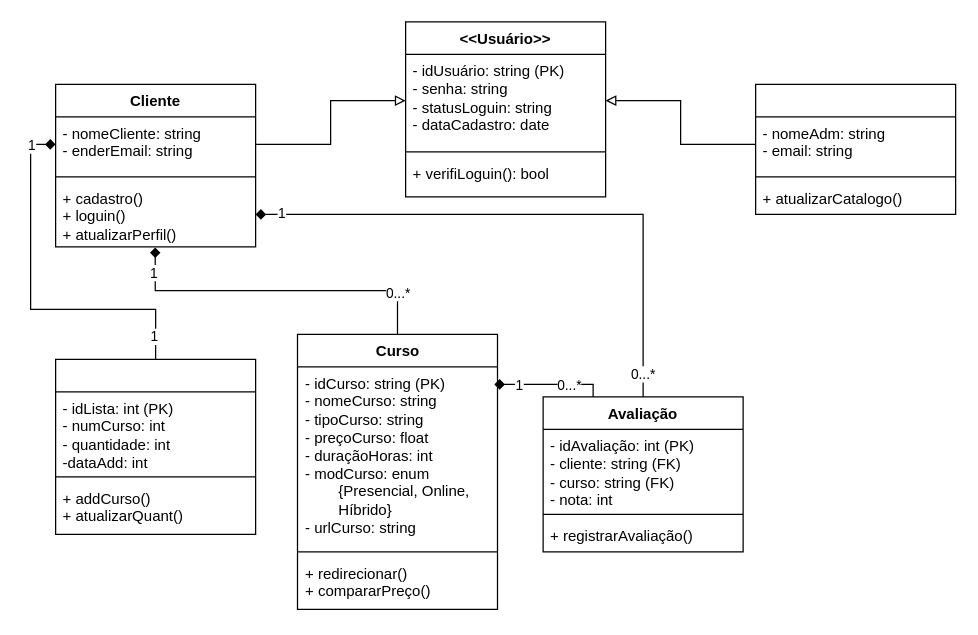
Image size: 978x635. Some labels were removed from this diagram. The box of each missing label's shape, as (x1, y1, x2, y2) in pixels:
Adiministrador: (754, 83, 956, 214)
Lista de Desejos: (54, 358, 256, 534)
